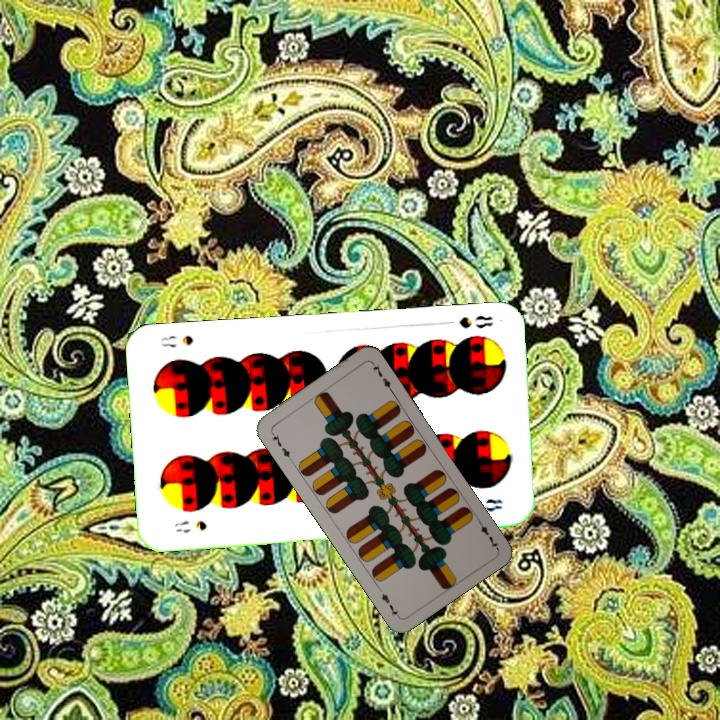E7: (473, 515, 501, 551), (267, 427, 294, 464)
S8: (439, 311, 495, 331), (170, 517, 210, 536)
